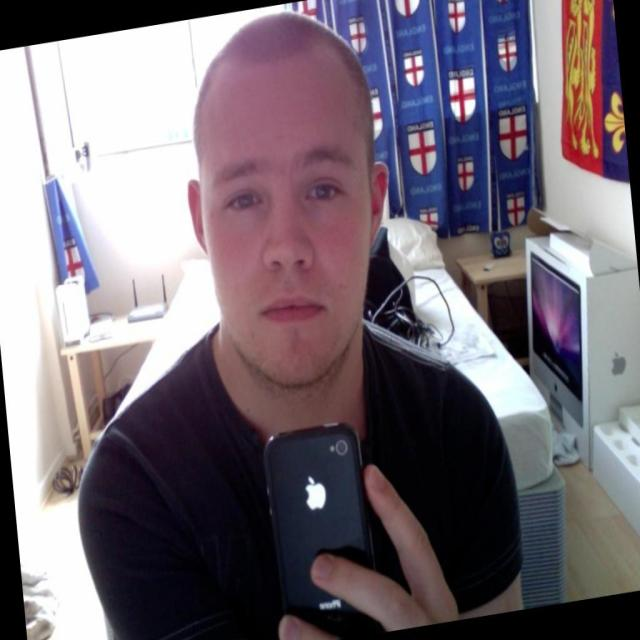phone: (262, 423, 372, 622)
